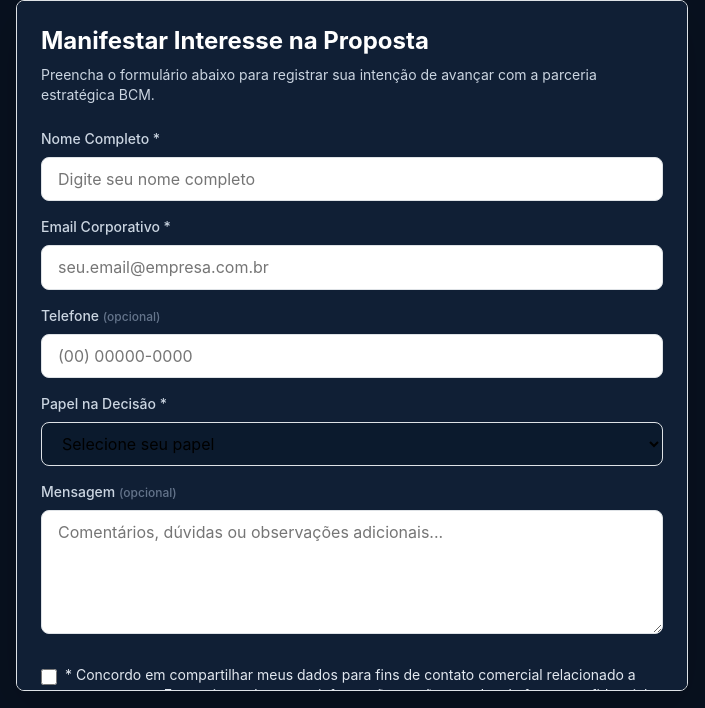
IntentForm › Validation › should enable submit button when all required fields are valid
The image size is (705, 708).
# Fill required fields
Step 1. Type "João Silva" into the field labelled "Nome Completo *" → [352, 179], box [41,157,663,201]
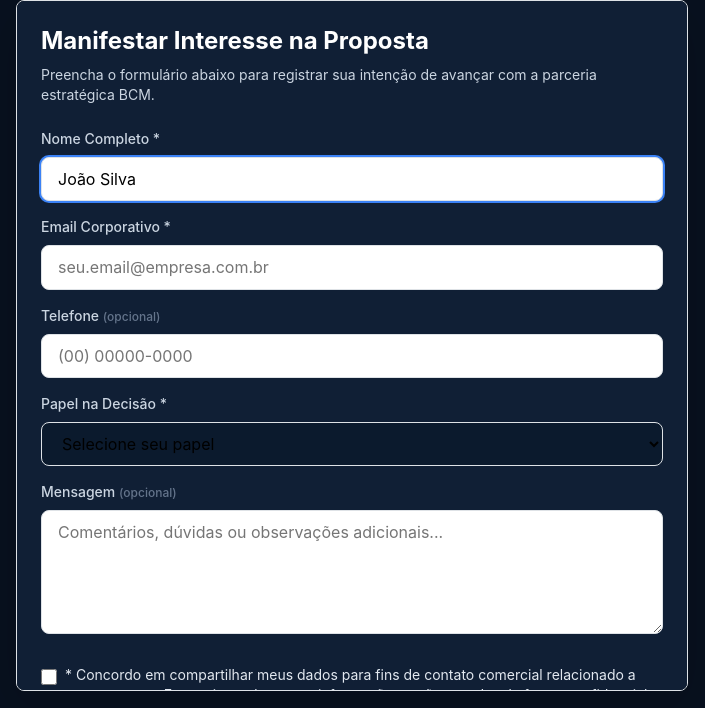
Step 2. Type "joao@empresa.com.br" into the field labelled "Email Corporativo *" → [352, 268], box [41,245,663,290]
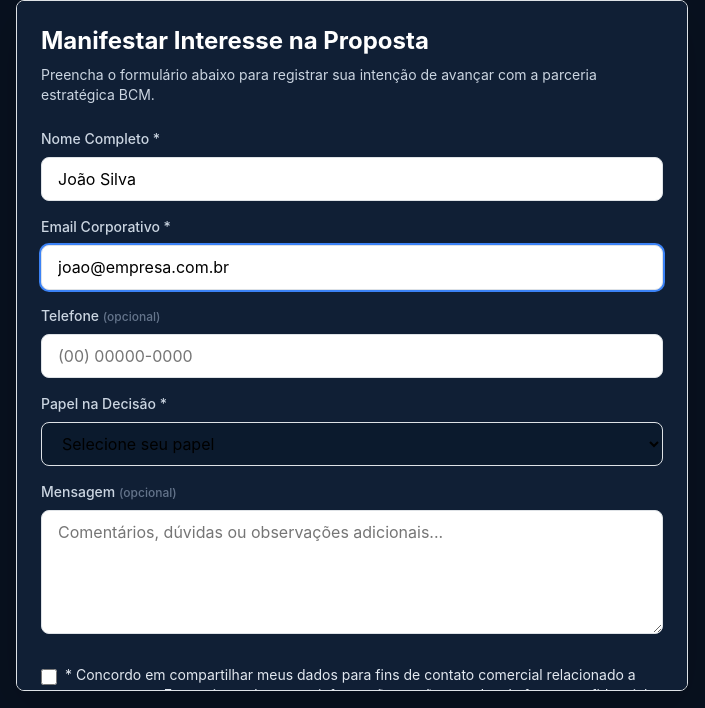
Step 3. Select "Decisor Final" in the dropdown labelled "Papel na Decisão *" → [352, 444], box [41,422,663,466]
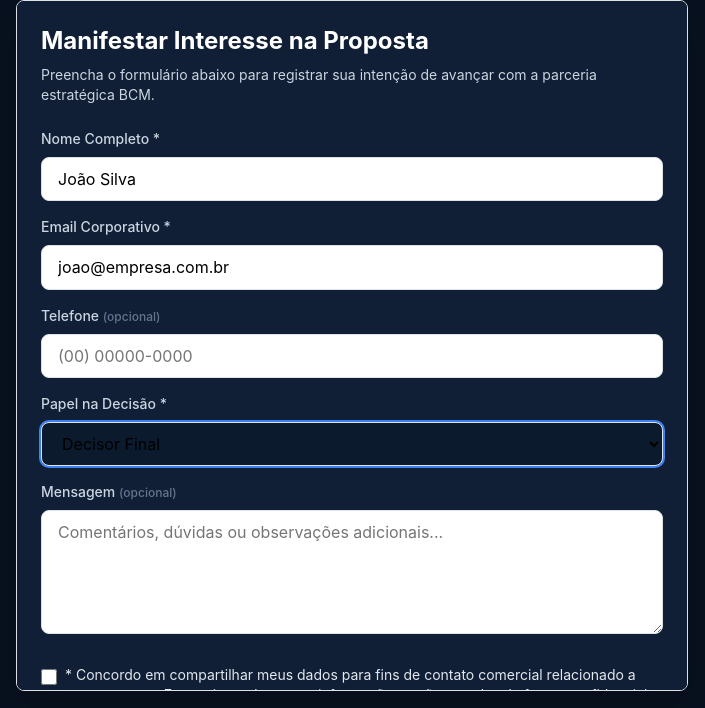
Step 4. Click the checkbox labelled "Concordo em compartilhar" → [49, 677], box [41,669,57,685]
(page scrolled)
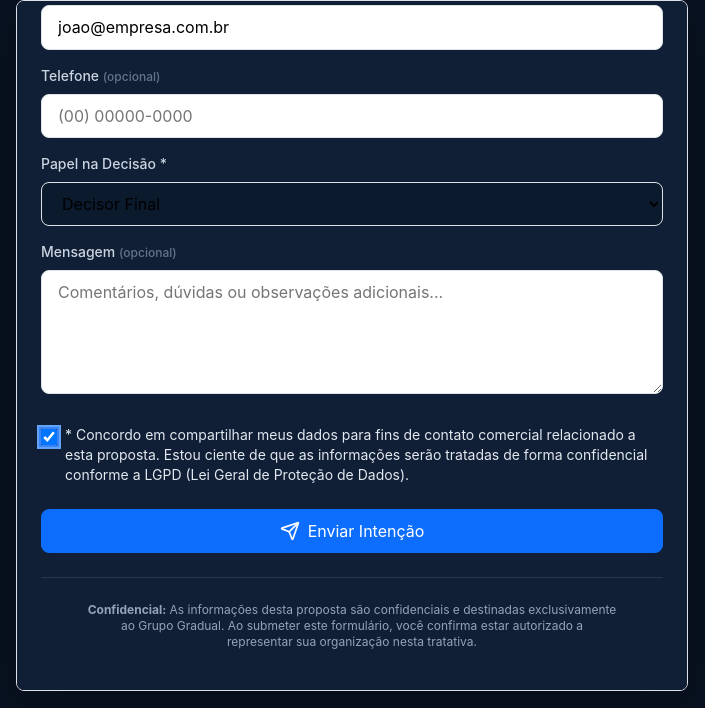
Now the button "Enviar Intenção" is enabled, box [41,509,663,553]
